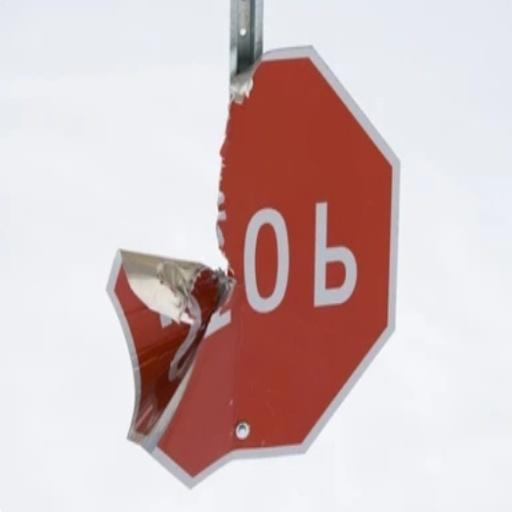Stop: (69, 48, 431, 495)
